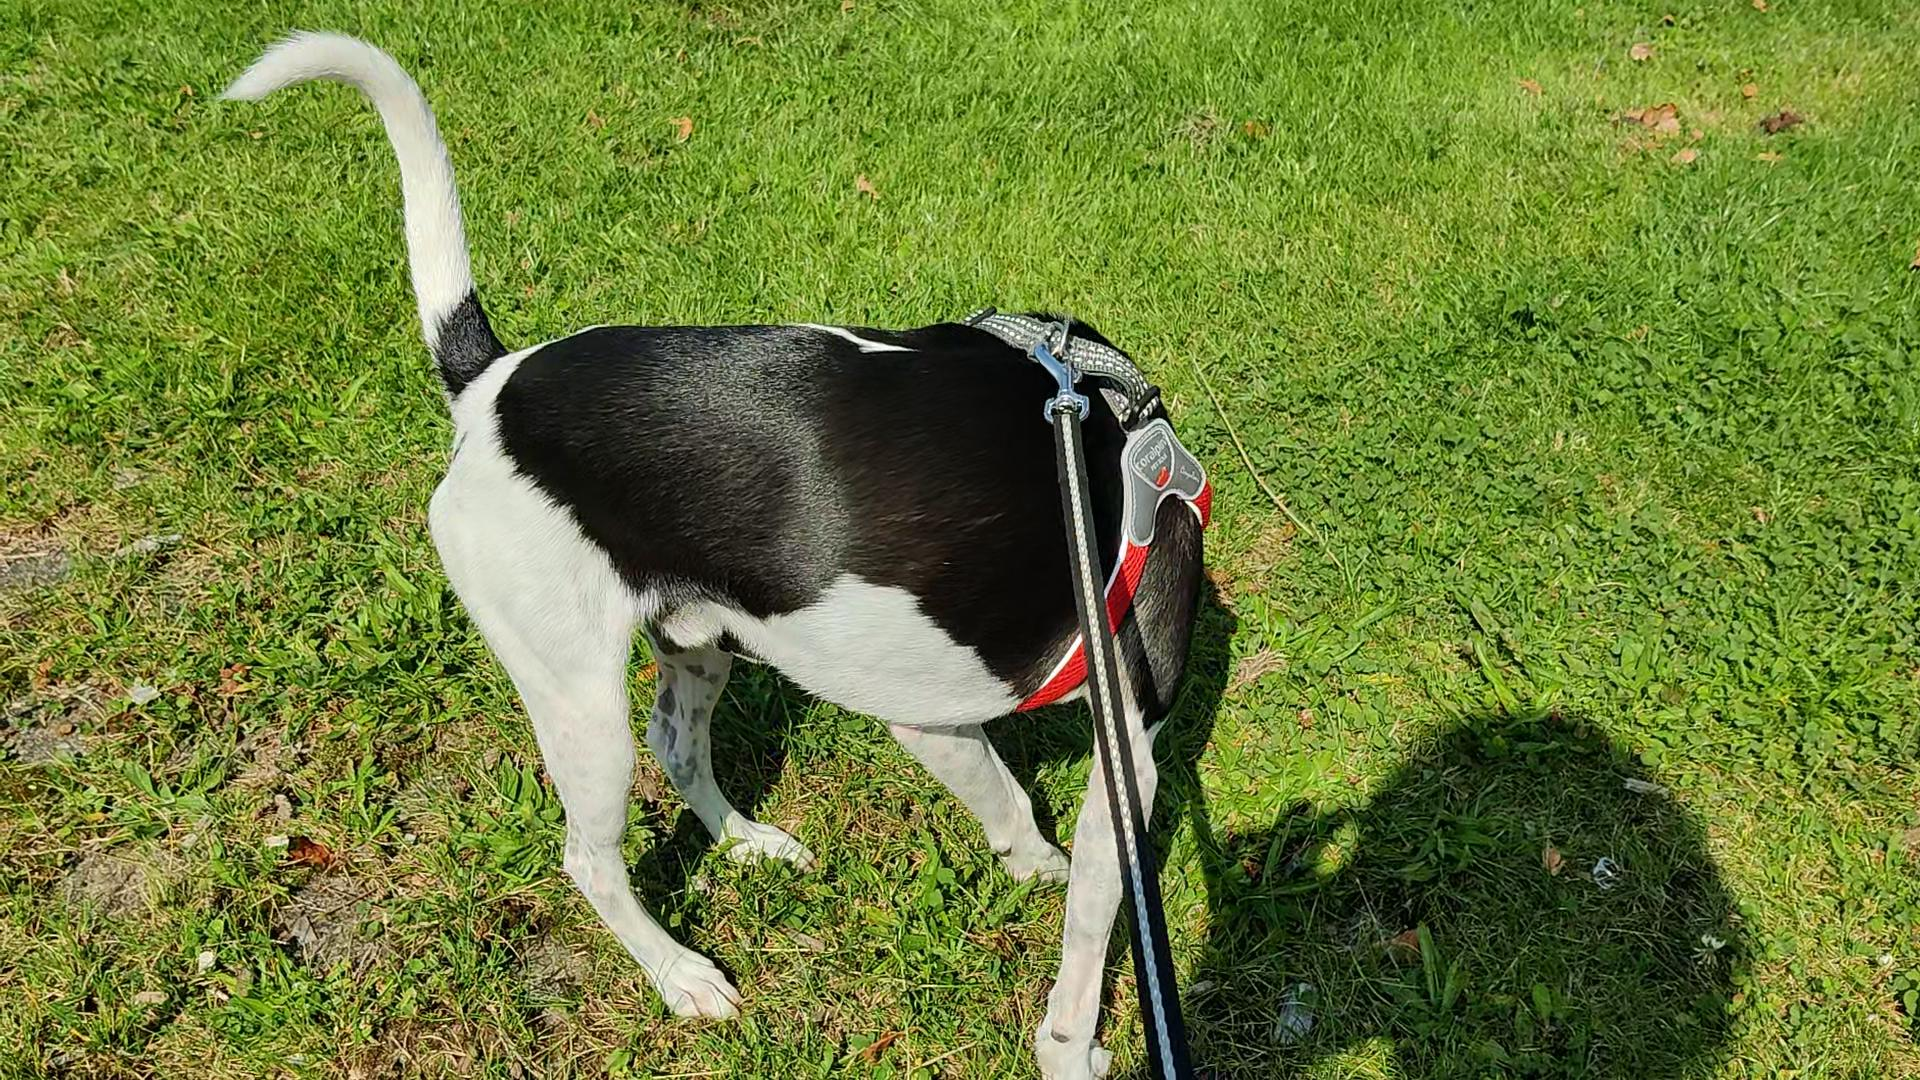Dog: (210, 22, 1220, 1079)
